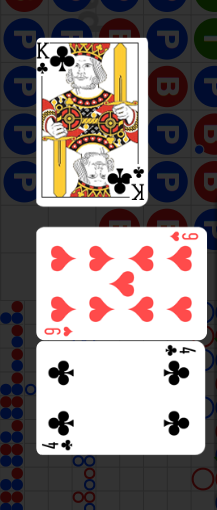4C: (40, 437, 74, 452)
9H: (168, 231, 199, 243)
KC: (36, 43, 51, 78)
